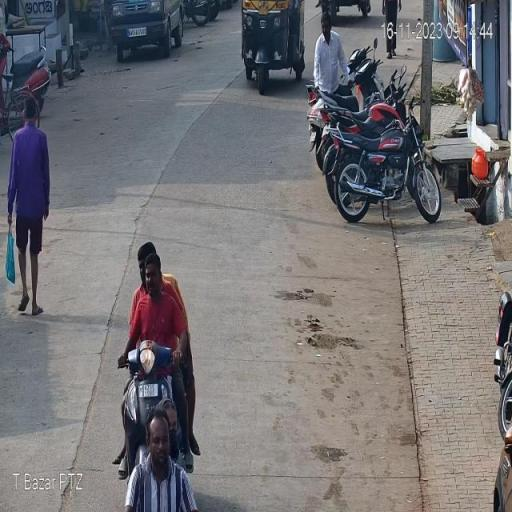tripple riding: (116, 237, 196, 394)
